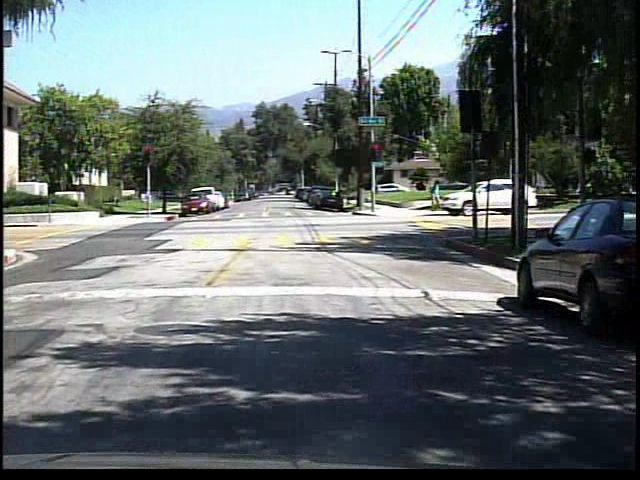person: (426, 176, 445, 215)
